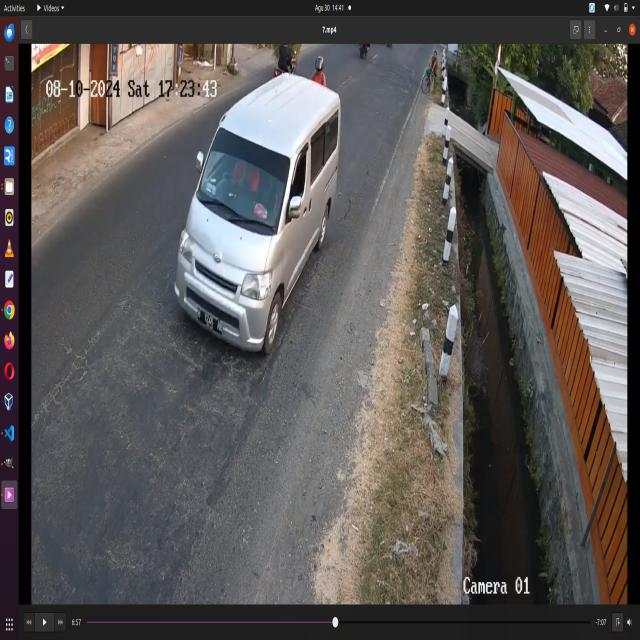person_without_seatbelt: (215, 142, 265, 208)
